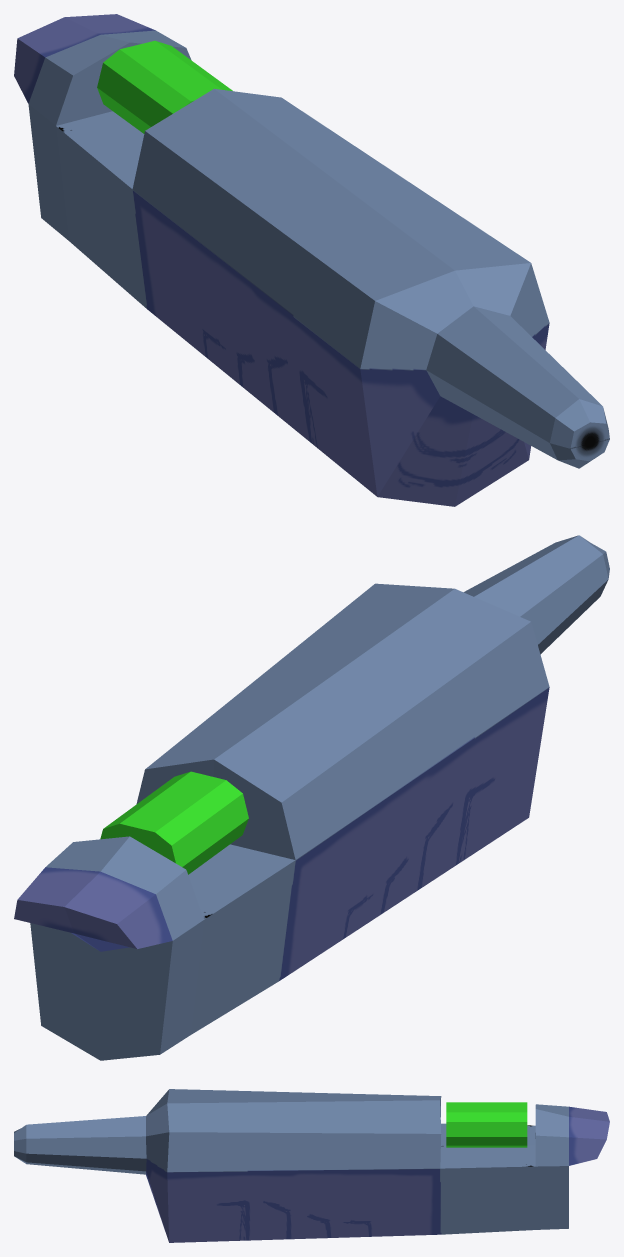
File: beam-pistol.fbx
3 views of the same model, one above another, from view 1: azimuth 30°, elevation 25°; view 2: azimuth 150°, elevation 25°; view 3: azimuth 270°, elevation 25° (orthographic). The views are drawn at different scales.
Visible parts, largest first — view 1: laser-pistol; view 2: laser-pistol; view 3: laser-pistol.
Part boxes in pixels (x1,y1,x2,y2): laser-pistol: [14, 14, 609, 506]; laser-pistol: [14, 535, 609, 1060]; laser-pistol: [14, 1089, 609, 1242].
Bounding box in the file's own units: 23.46 × 28.64 × 113.
